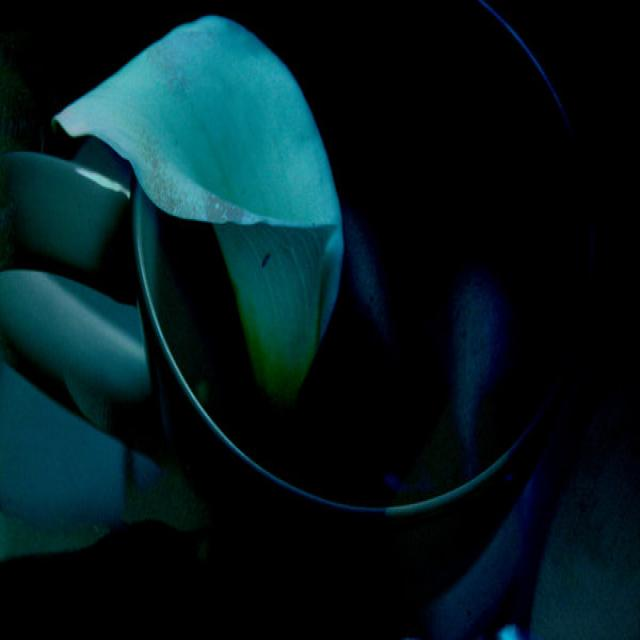Cup: (106, 0, 609, 580)
